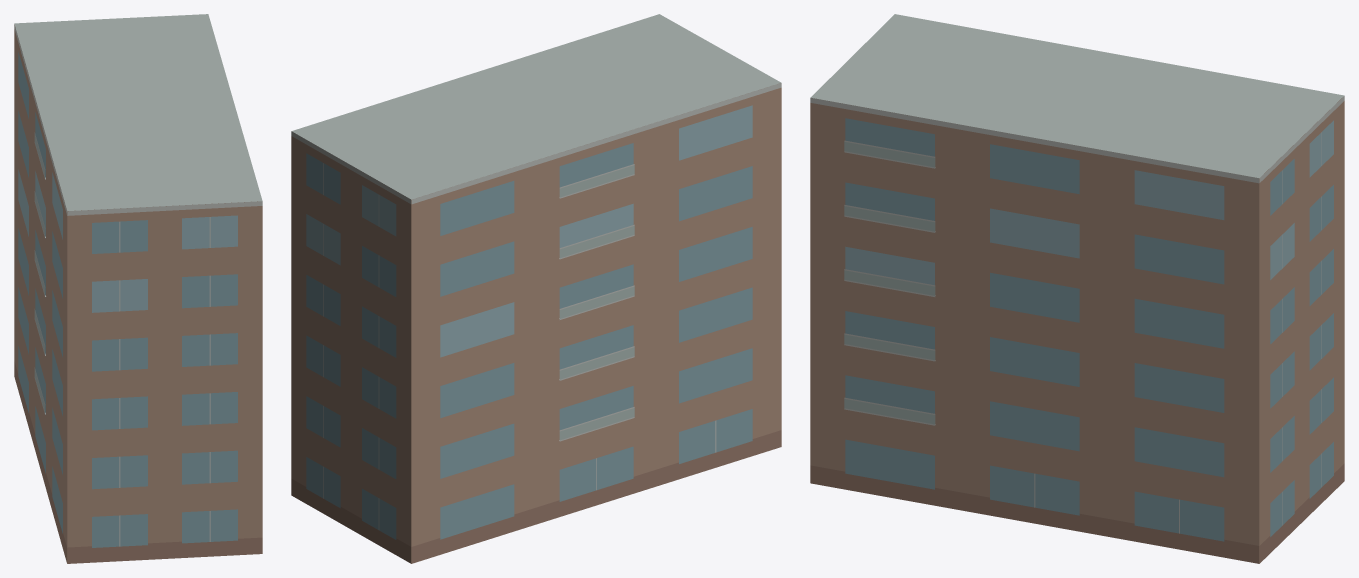
File: survey-upis-32564328.glb
The picture shows the model from 3 angles, left to right: view 1: azimuth 30°, elevation 25°; view 2: azimuth 150°, elevation 25°; view 3: azimuth 270°, elevation 25°; orthographic projection. The views are drawn at different scales.
Visible parts, largest first — view 1: survey-upis-32564328.tmp; view 2: survey-upis-32564328.tmp; view 3: survey-upis-32564328.tmp.
Boxes of the visible parts, x1,y1,x2,y2 form: survey-upis-32564328.tmp: (14, 14, 262, 563); survey-upis-32564328.tmp: (291, 14, 781, 563); survey-upis-32564328.tmp: (810, 14, 1344, 563).
Bounding box in the file's own units: 16.72 × 18.3 × 22.98.
